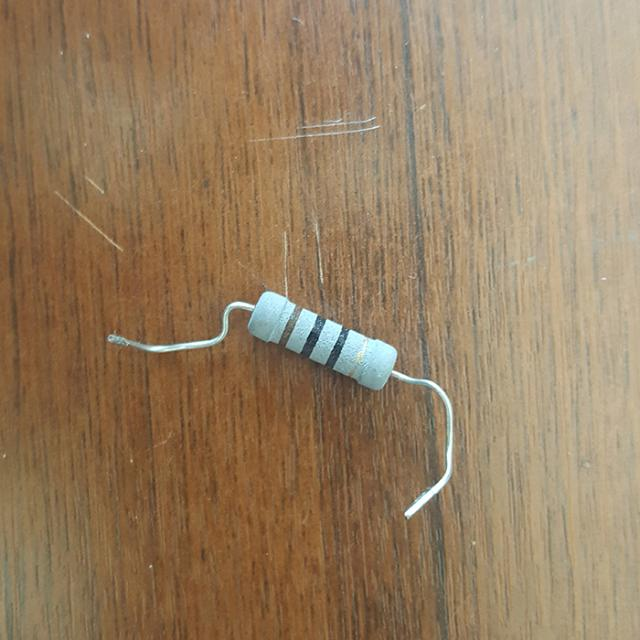black: (300, 316, 325, 357), (324, 328, 347, 368)
brown: (278, 305, 299, 347)
gold: (350, 337, 366, 376)
resistor: (217, 257, 429, 423)
